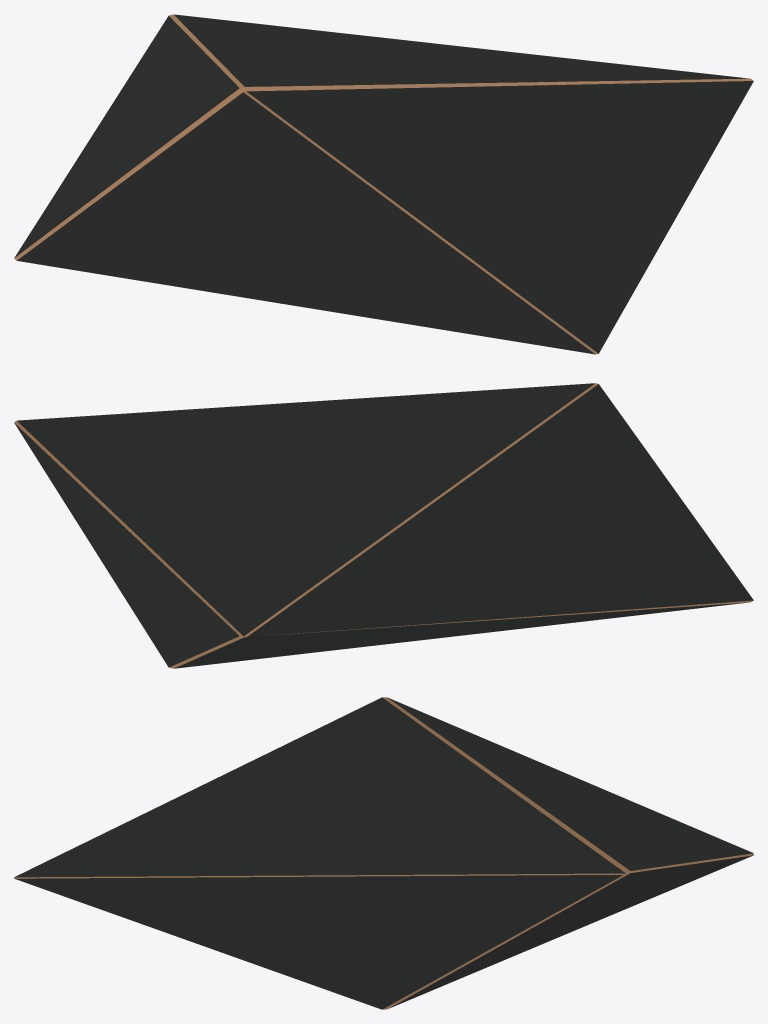
Rendered from Pipa_01.fbx.
3 renders of one model, top to bottom at view 1: azimuth 30°, elevation 25°; view 2: azimuth 150°, elevation 25°; view 3: azimuth 270°, elevation 25°, orthographic. The views are drawn at different scales.
Visible parts, largest first — view 1: Pipa_01; view 2: Pipa_01; view 3: Pipa_01.
Part boxes in pixels (bbox=[...]): Pipa_01: bbox=[14, 14, 753, 354]; Pipa_01: bbox=[14, 383, 753, 668]; Pipa_01: bbox=[14, 697, 753, 1009].
Size of the model in its own units: 81.18 by 2.98 by 81.27.
